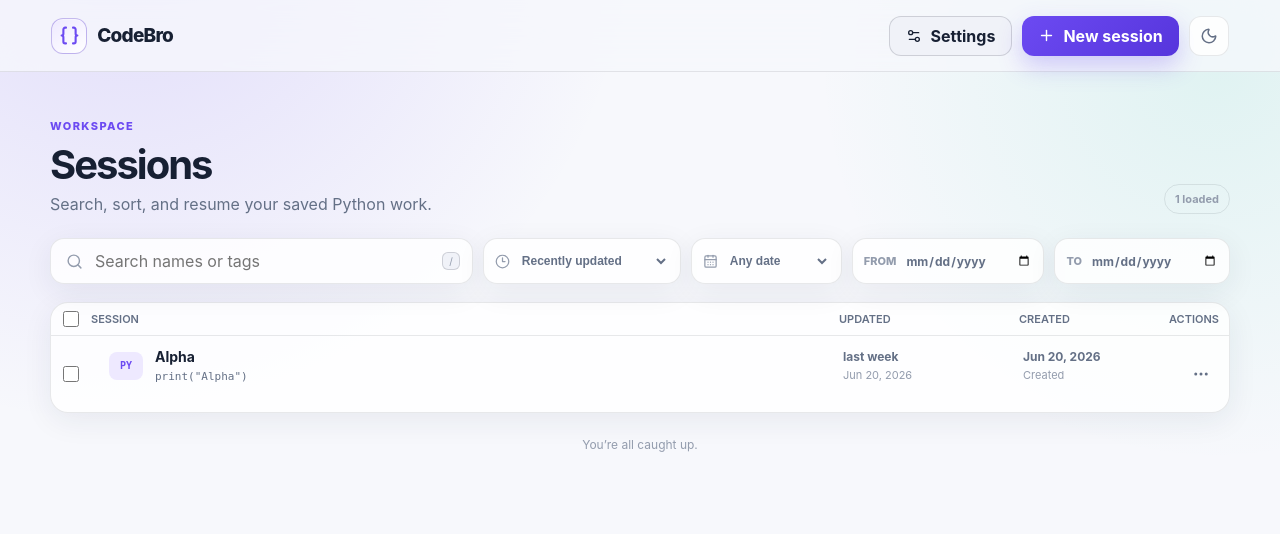
Test case: SessionLibrary data operations › clears selection when search results are replaced
Expected: the text "Alpha" is shown, [155,348,195,365]
Click the checkbox named "Select session Alpha": (71, 374) [63,366,79,382]
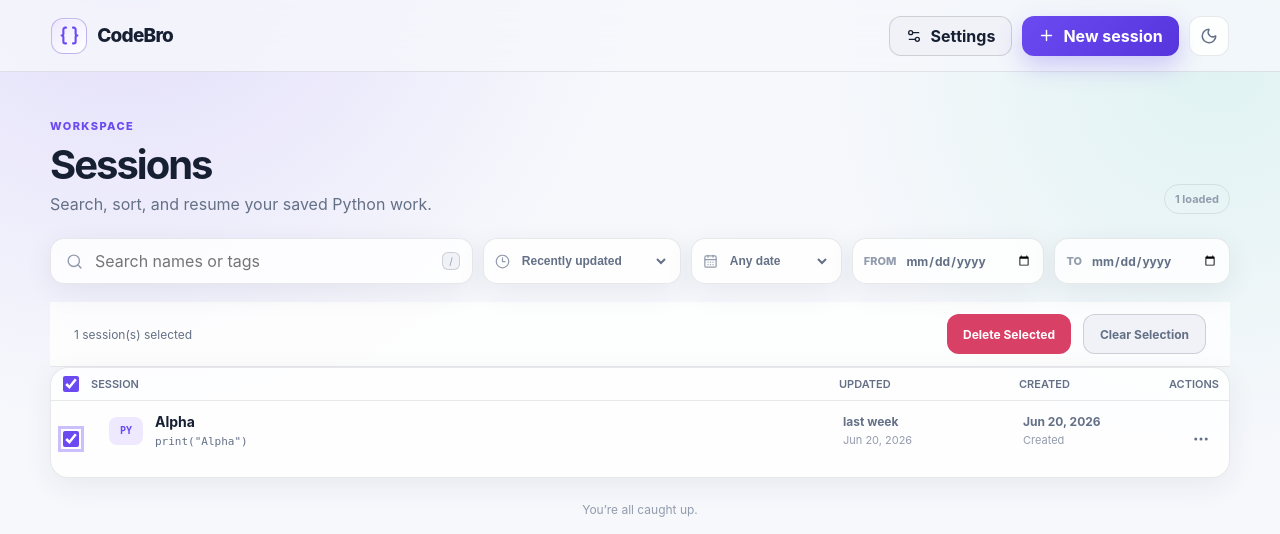
Now the text "1 session(s) selected" is shown, box [74,326,192,342]
In the field named "Search sessions by name or tag": (263, 261) [93,250,432,272], type "bravo"
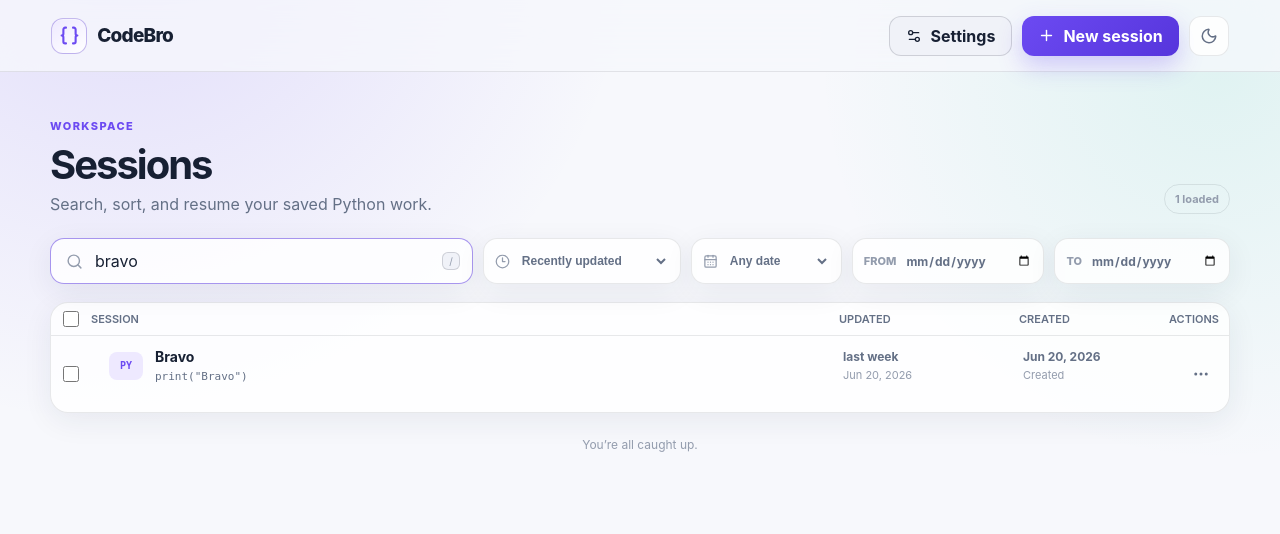
Now the text "Bravo" is shown, box [155,348,194,365]
Now the text "1 session(s) selected" is gone
Now the checkbox named "Select session Bravo" is not checked, box [63,366,79,382]
